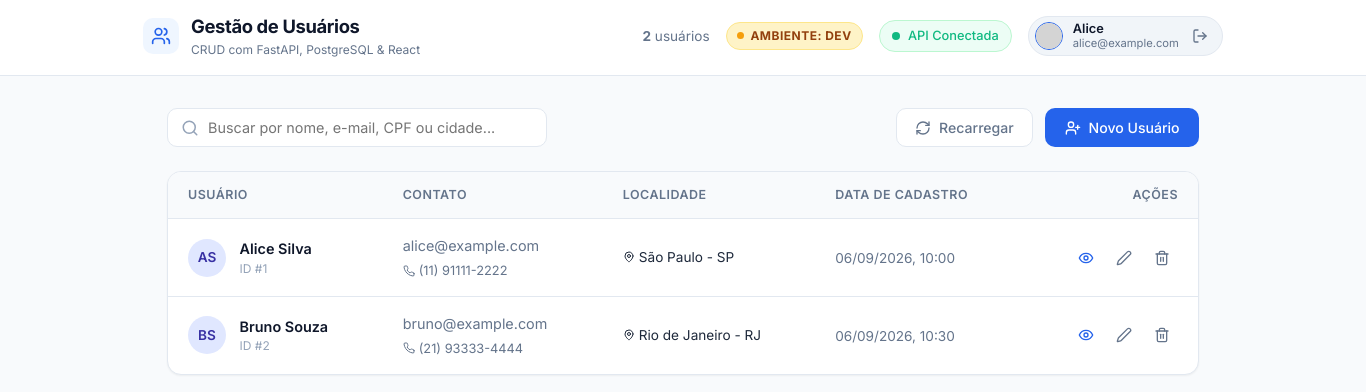
Test: App Integration Tests (CRUD Flow & Auth Guard) › filtra usuários em tempo real pelo campo de busca por nome ou sobrenome
The width and height of the screenshot is (1366, 392).
Expected: the text "Alice Silva" is shown, [240,238,312,260]
Type "Bruno" into the field with placeholder "Buscar por nome, e-mail, CPF ou cidade..." at {"x": 357, "y": 128}, box [167,108,547,147]
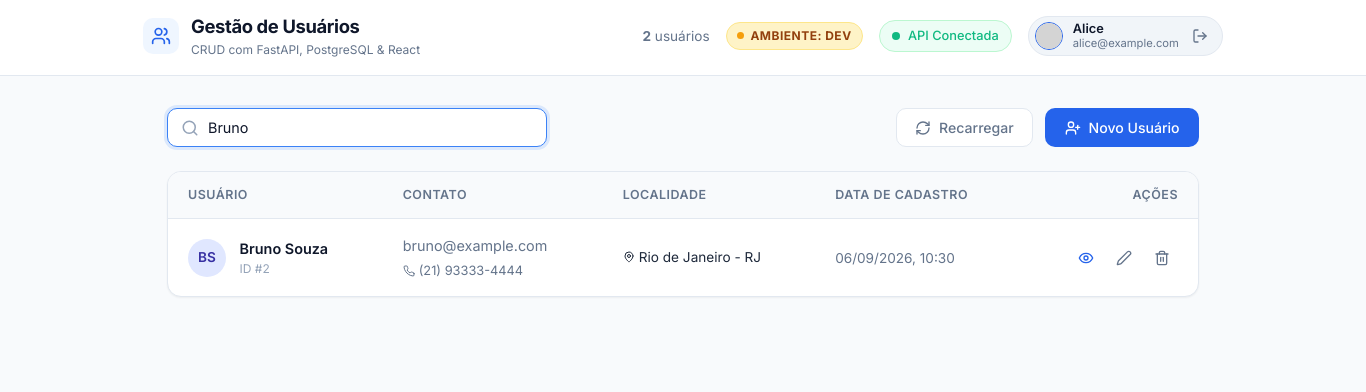
Expected: the text "Bruno Souza" is shown, [240,238,328,260]
Now the text "Alice Silva" is gone
Clear the field with placeholder "Buscar por nome, e-mail, CPF ou cidade..." at {"x": 357, "y": 128}, box [167,108,547,147]
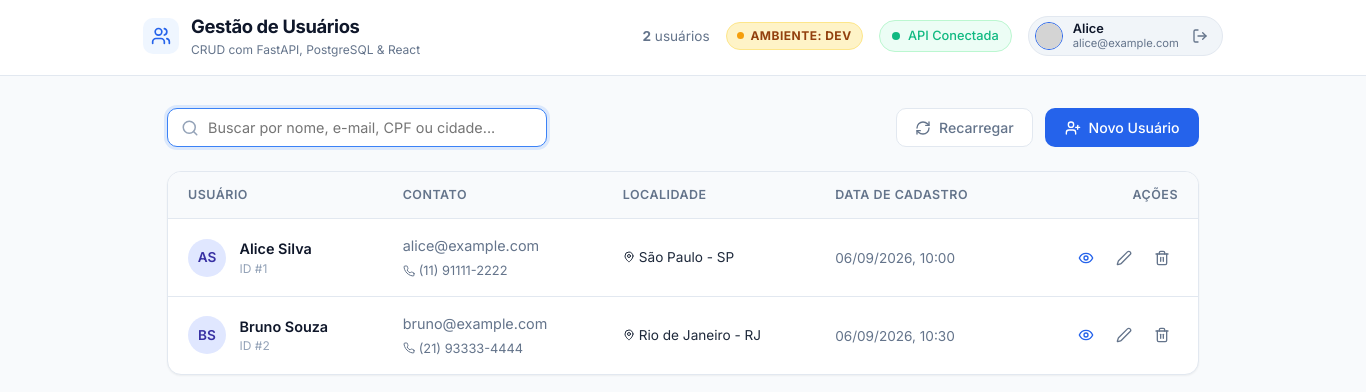
Now the text "Alice Silva" is shown, box [240,238,312,260]
